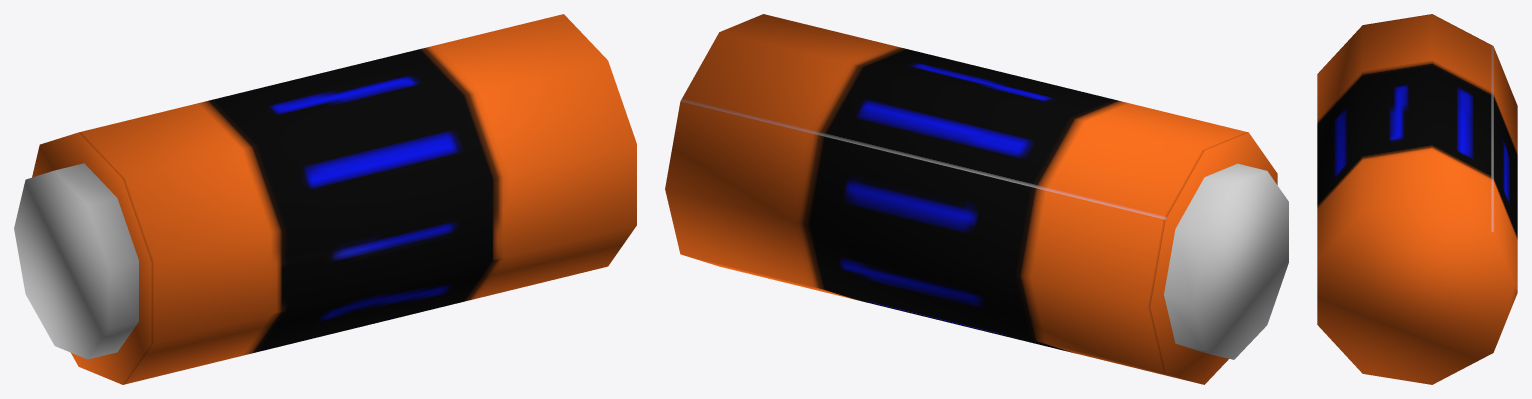
File: BatteryRechargable.fbx
3 renders of one model, left to right at view 1: azimuth 30°, elevation 25°; view 2: azimuth 150°, elevation 25°; view 3: azimuth 270°, elevation 25°, orthographic. The views are drawn at different scales.
Visible parts, largest first — view 1: Cylinder; view 2: Cylinder; view 3: Cylinder.
Part boxes in pixels (x1,y1,x2,y2): Cylinder: (14, 14, 636, 384); Cylinder: (665, 14, 1288, 384); Cylinder: (1317, 14, 1517, 384).
Bounding box in the file's own units: 62.13 × 27.17 × 26.75.
1 material, 1 textured.
